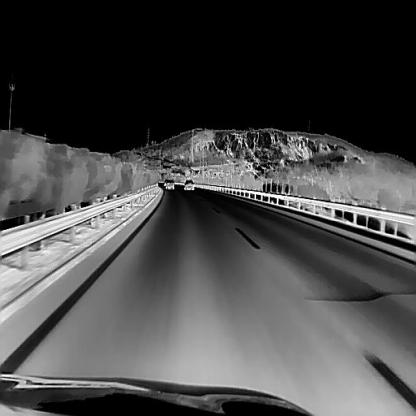car: (183, 178, 193, 189), (165, 180, 174, 188), (163, 178, 170, 185)
